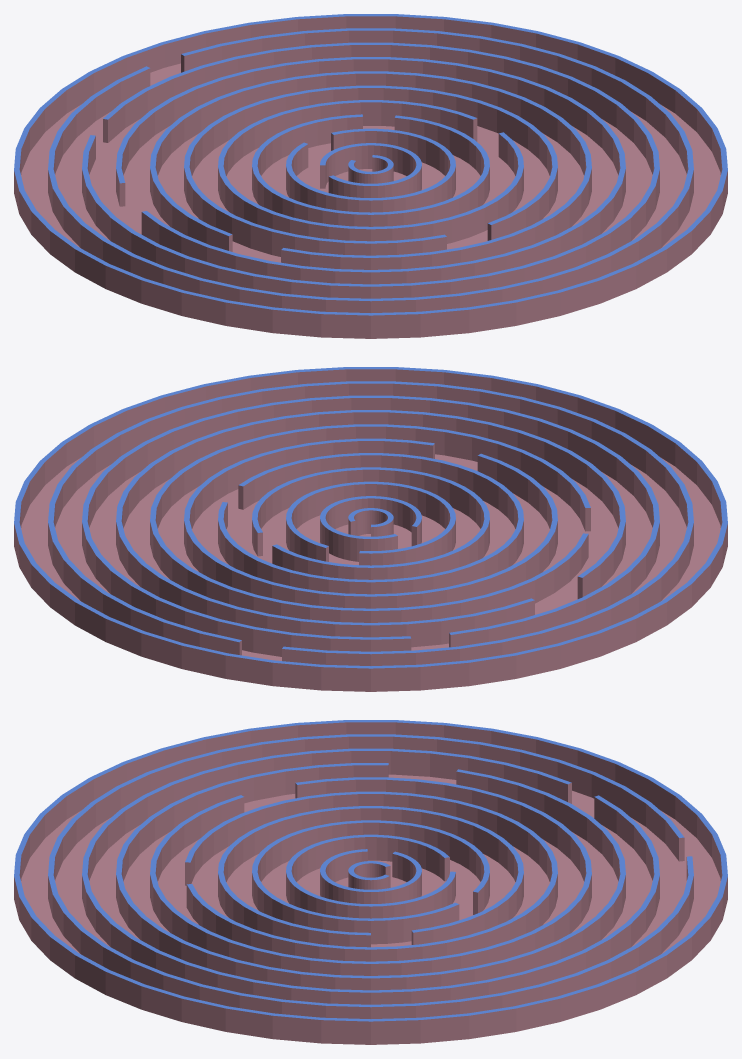
Rendered from level9.fbx.
3 views of the same model, one above another, from view 1: azimuth 30°, elevation 25°; view 2: azimuth 150°, elevation 25°; view 3: azimuth 270°, elevation 25° (orthographic).
Parts seen in each view (by area): view 1: Vert; view 2: Vert; view 3: Vert.
Boxes of the visible parts, x1=… form: Vert: x1=14, y1=14, x2=727, y2=338; Vert: x1=14, y1=367, x2=727, y2=691; Vert: x1=14, y1=720, x2=727, y2=1044.
Bounding box in the file's own units: 497 × 18 × 497.
